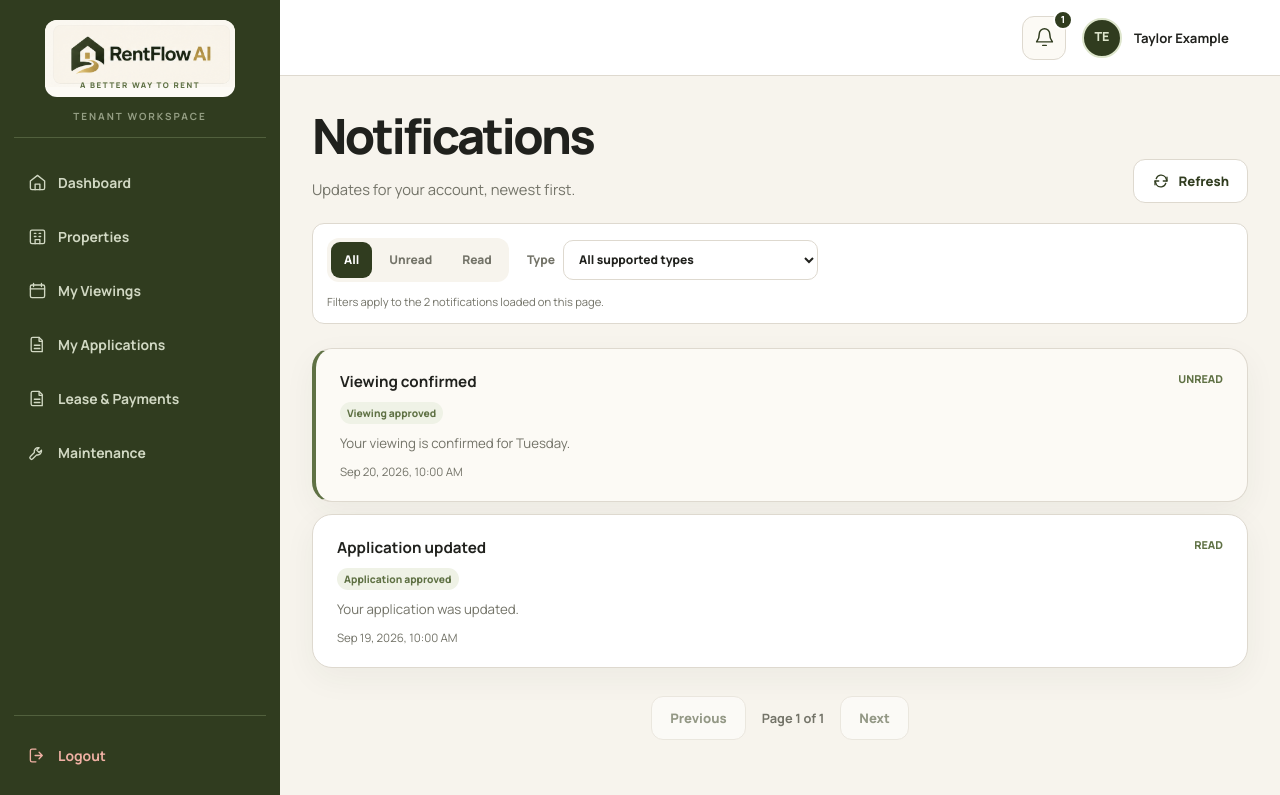
Scenario: shared notifications UI › keeps a read failure attached to its notification when another item is selected
Click the button "Viewing confirmed" at (408, 381), box top-left (312, 348), bottom-right (1248, 502)
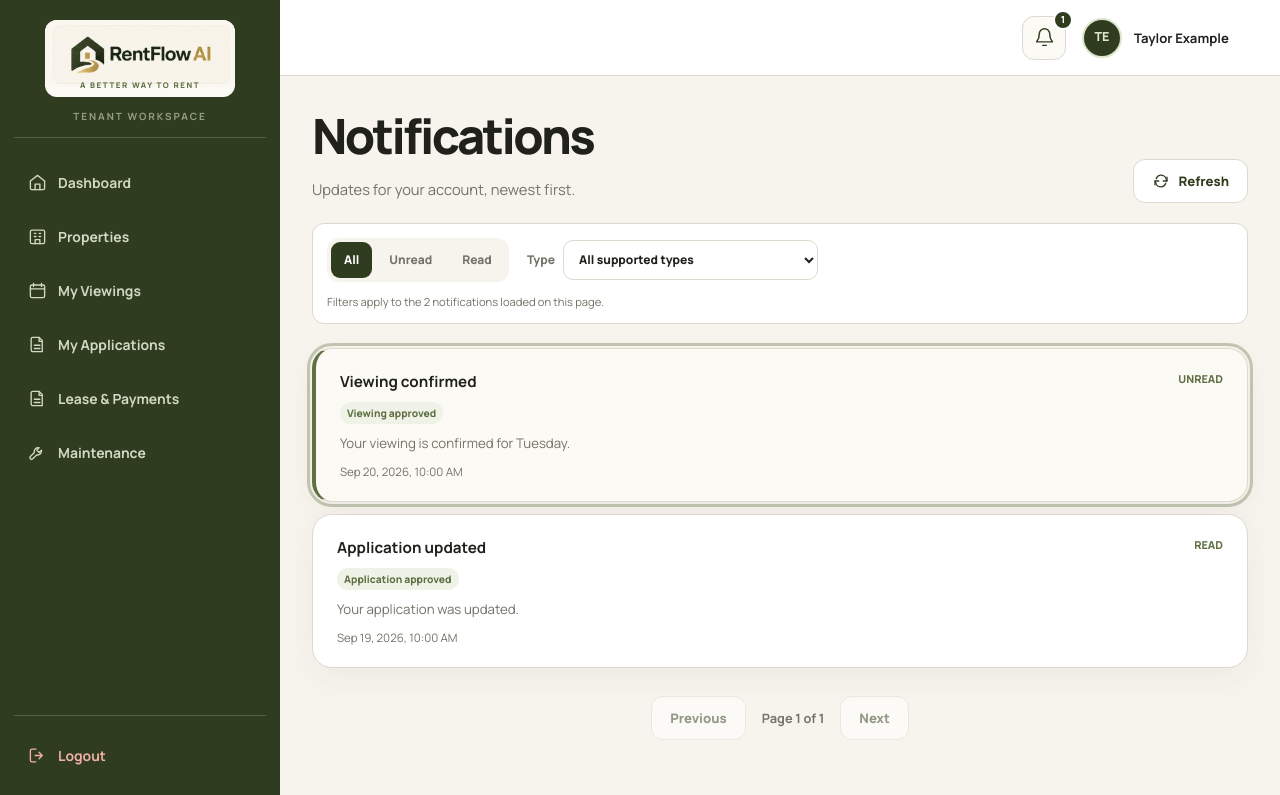
Click the button "Application updated" at (412, 547), box top-left (312, 514), bottom-right (1248, 668)
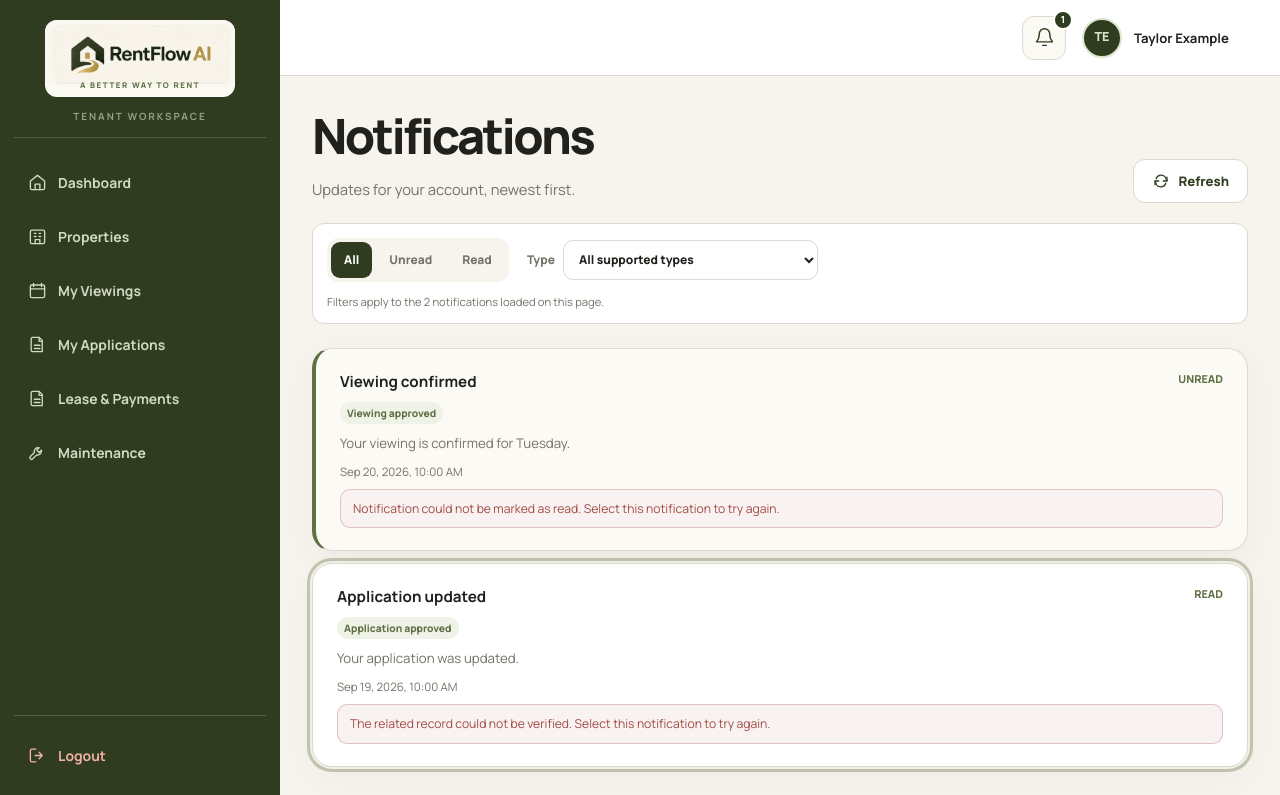
Expected: the button "Viewing confirmed" shows "Unread", top-left (312, 348), bottom-right (1248, 551)
Expected: the 1st message shows "Notification could not be marked as read.", top-left (353, 500), bottom-right (581, 517)
